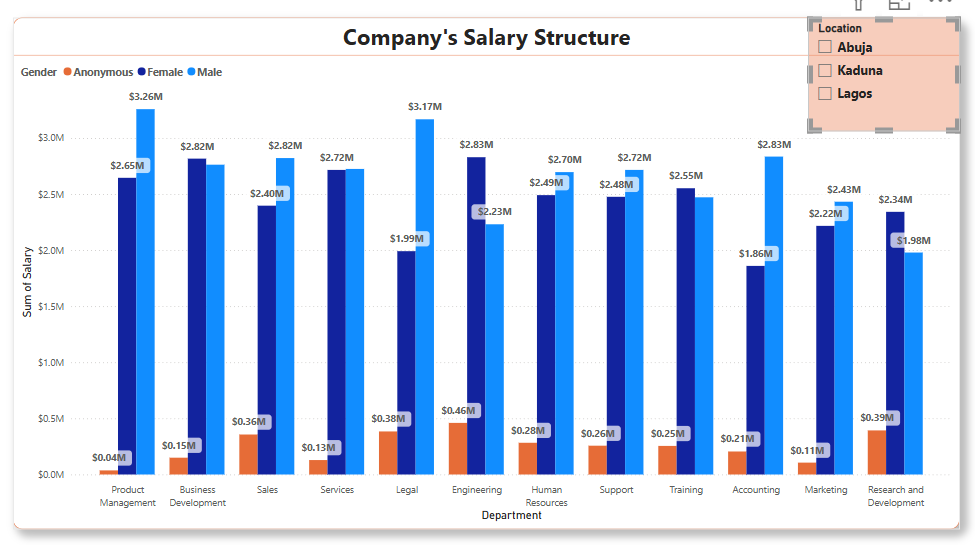

The page's visual inventory and layout, read from the dashboard file:
{"tool":"powerbi","page":{"name":"Page 3","canvas":[1280,720],"ordinal":1},"visuals":[{"type":"lineClusteredColumnComboChart","title":"Company''s Salary Structure","fields":{"Category":["Palmoria Group emp-data.Department"],"Y":["Sum(Palmoria Group emp-data.Salary)"],"Series":["Palmoria Group emp-data.Gender"]},"box":[37.8,43.5,1192.5,644.4],"z":0},{"type":"slicer","fields":{"Values":["Palmoria Group emp-data.Location"]},"box":[1039.4,43.5,190.9,143.6],"z":1000}]}

Visuals, with their boxes on the page's 1280x720 design canvas (x1, y1, x2, y2). These are canvas units, not pixel positions in the 975x545 screenshot, which may show the page scaled, cropped or inside an application window:
"Company''s Salary Structure" lineClusteredColumnComboChart: region(38, 44, 1230, 688)
slicer - Palmoria Group emp-data.Location: region(1039, 44, 1230, 187)
